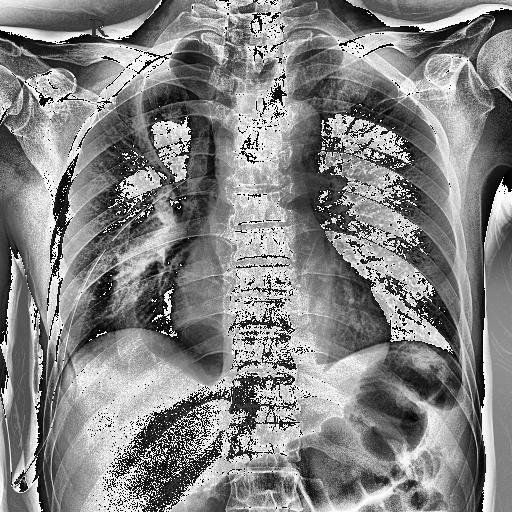1- Atelectasis: (96, 197, 190, 324)
12- Pneumothorax: (141, 39, 232, 175)
9- Other lesion: (4, 170, 200, 497), (112, 20, 227, 402), (126, 52, 230, 372), (21, 264, 54, 416)
